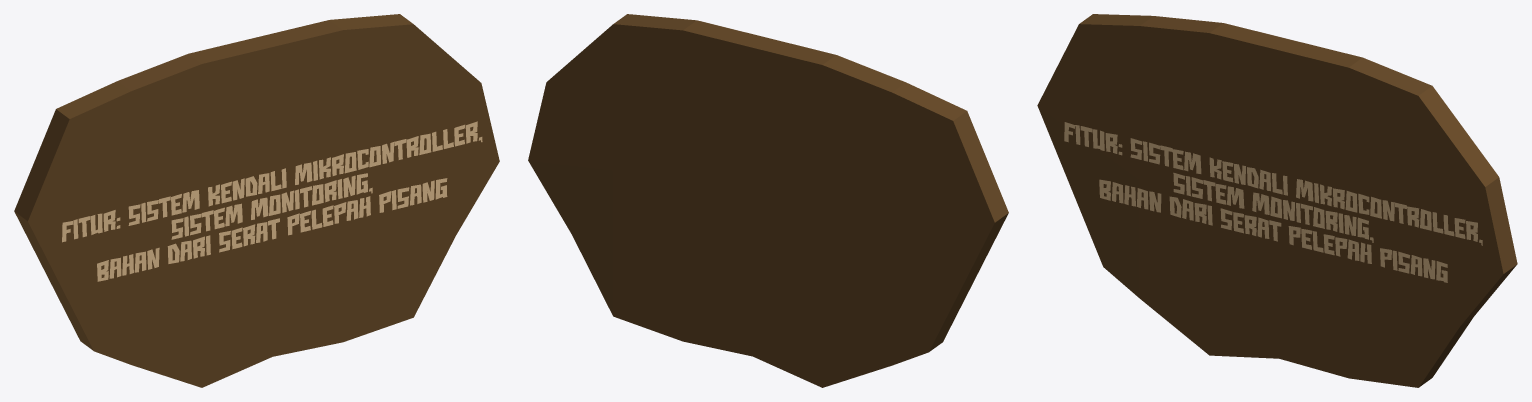
File: ui_3_Rompi.fbx
3 views of the same model, side by side, from view 1: azimuth 30°, elevation 25°; view 2: azimuth 150°, elevation 25°; view 3: azimuth 330°, elevation 25° (orthographic).
Visible parts, largest first — view 1: Cube.003, Text.002; view 2: Cube.003; view 3: Cube.003, Text.002.
Boxes of the visible parts, box(x1,y1,x2,y2) form: Cube.003: box(14, 14, 499, 387); Text.002: box(62, 121, 482, 281); Cube.003: box(528, 14, 1008, 387); Cube.003: box(1037, 14, 1517, 387); Text.002: box(1064, 122, 1482, 282).
Size of the model in its own units: 256 by 168 by 16.5.
